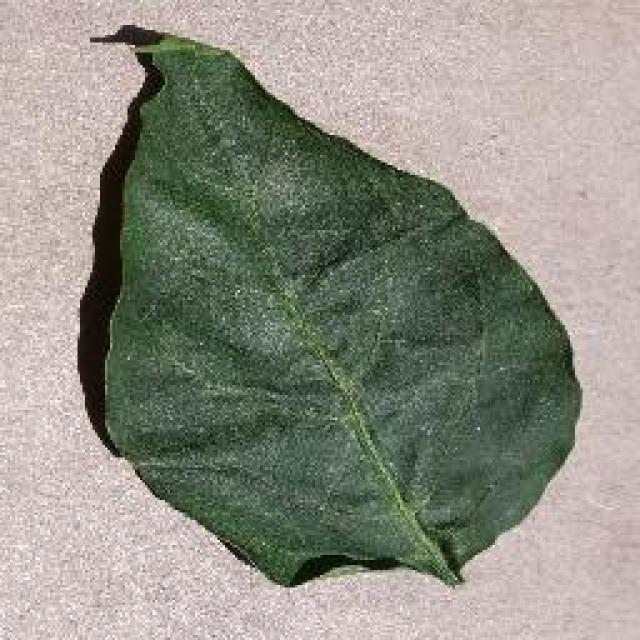Chilli_Healthy: (85, 20, 583, 590)
